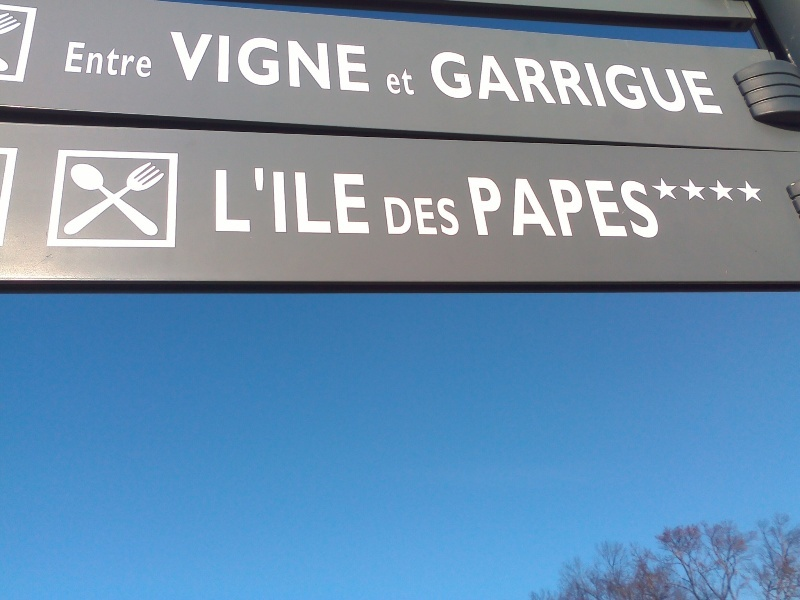text: (225, 166, 240, 236), (241, 166, 256, 236), (257, 166, 272, 236), (273, 166, 288, 236), (289, 166, 304, 236), (305, 166, 320, 236), (321, 166, 336, 236), (337, 166, 352, 236), (353, 166, 368, 236), (433, 48, 448, 116), (449, 48, 464, 116), (465, 48, 480, 116), (481, 48, 496, 116), (497, 48, 512, 116), (513, 48, 528, 116), (529, 48, 544, 116), (545, 48, 560, 116), (561, 48, 576, 116), (577, 48, 592, 116), (593, 48, 608, 116), (609, 48, 624, 116), (625, 48, 640, 116), (641, 48, 656, 116), (657, 48, 672, 116), (673, 48, 688, 116), (689, 48, 704, 116), (705, 48, 720, 116), (177, 28, 192, 95), (193, 28, 208, 95), (209, 28, 224, 95), (225, 28, 240, 95), (241, 28, 256, 95), (257, 28, 272, 95), (273, 28, 288, 95), (289, 28, 304, 95), (305, 28, 320, 95), (321, 28, 336, 95), (337, 28, 352, 95), (353, 28, 368, 95), (481, 177, 496, 240), (497, 177, 512, 240), (513, 177, 528, 240), (529, 177, 544, 240), (545, 177, 560, 240), (561, 177, 576, 240), (577, 177, 592, 240), (593, 177, 608, 240), (609, 177, 624, 240), (625, 177, 640, 240), (641, 177, 656, 240), (466, 177, 480, 240), (385, 195, 400, 238), (401, 195, 416, 238), (417, 195, 432, 238), (433, 195, 448, 238), (167, 28, 176, 95), (81, 40, 96, 79), (97, 40, 112, 79), (113, 40, 128, 79), (129, 40, 144, 79), (657, 177, 666, 240), (216, 166, 224, 236), (449, 195, 462, 238), (721, 48, 728, 116), (385, 65, 400, 96), (401, 65, 416, 96), (69, 40, 80, 79), (427, 48, 432, 116), (145, 40, 153, 79), (369, 166, 371, 236), (369, 28, 371, 95), (382, 65, 384, 96), (383, 195, 384, 238)
